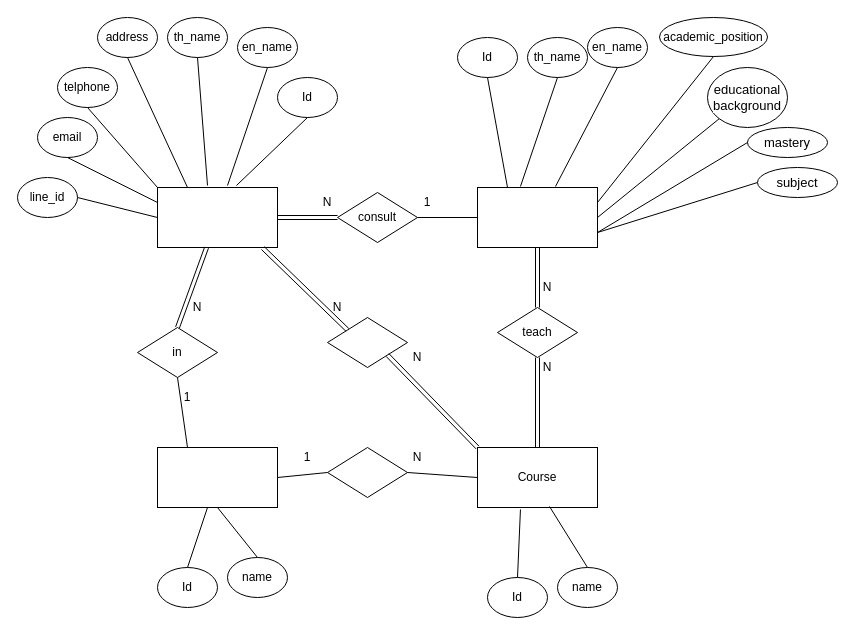
Some shapes in this 855 by 635 pixel diagram are drawn without their labels. The shapes that lost their labels are listed below. From the top down, each one's centre as x and y in pixels, then its label:
[217,217]: Student
[537,217]: Instructor
[367,342]: study
[217,477]: Faculty
[367,472]: have
